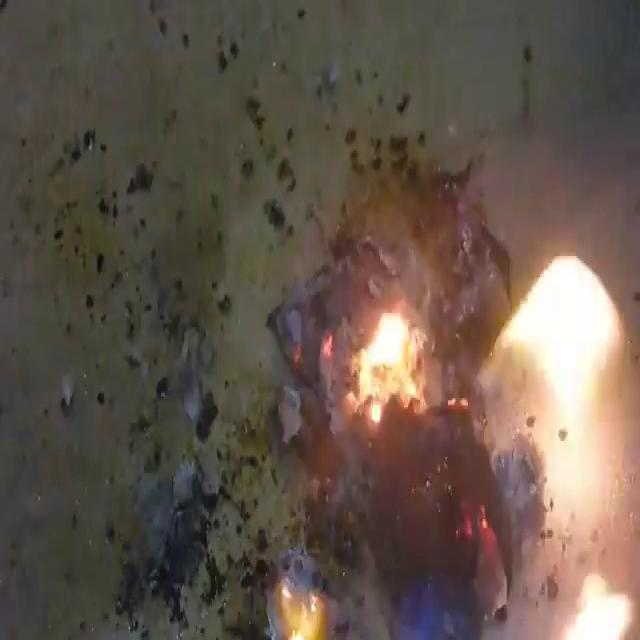Fire: (3, 4, 636, 636), (351, 304, 427, 427)
